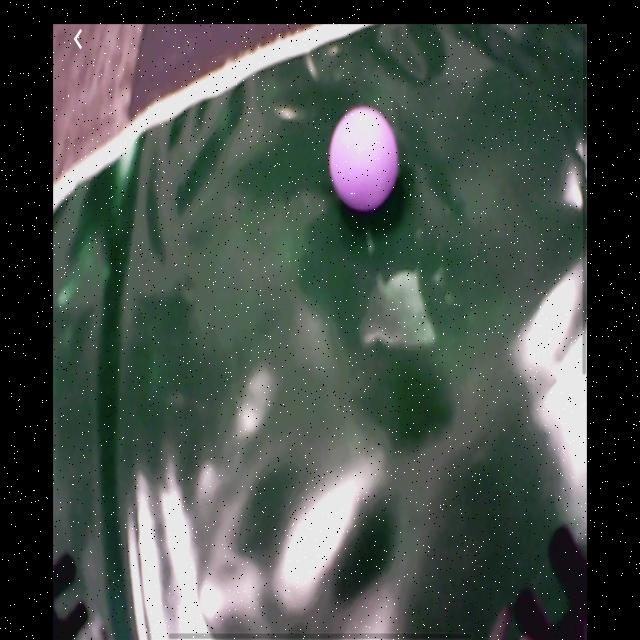ball: (330, 106, 399, 213)
